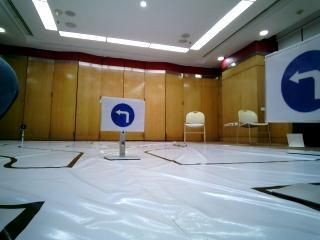left: (269, 47, 320, 113), (109, 100, 138, 132)
